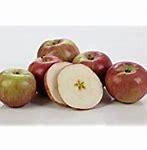apple: (43, 61, 103, 108), (0, 64, 42, 113), (106, 60, 147, 103), (38, 36, 83, 62), (69, 47, 110, 70)
